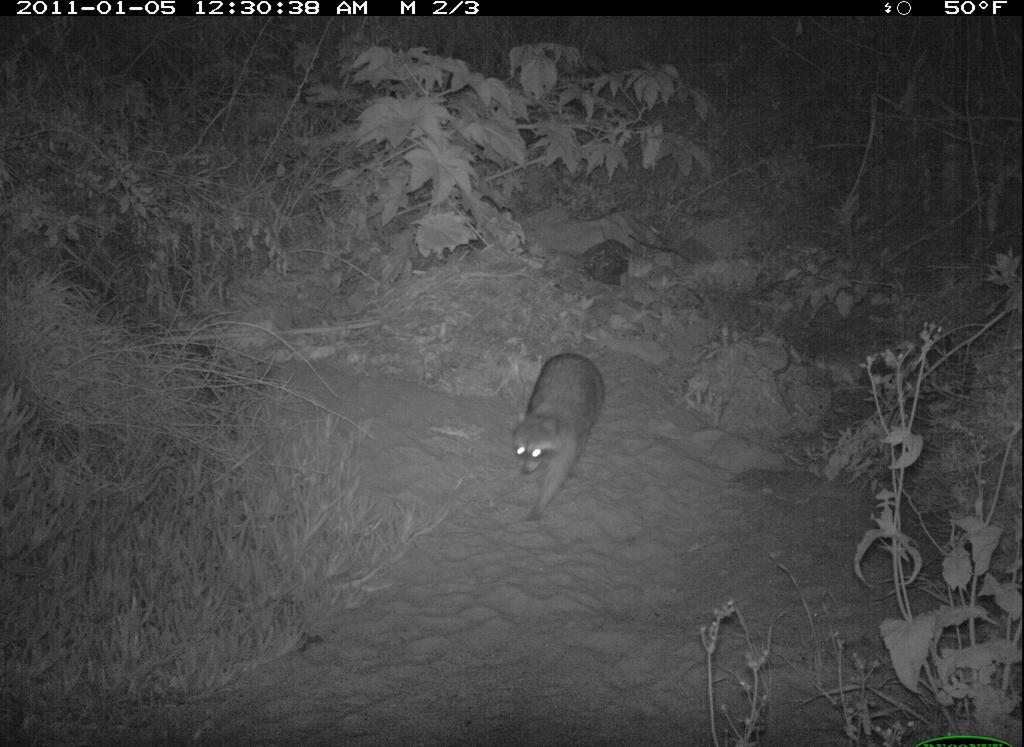raccoon: (502, 337, 633, 513)
